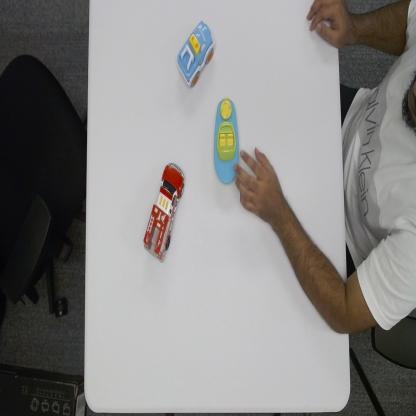Arm: (284, 201, 347, 337)
Boat: (212, 93, 240, 187)
Car: (176, 18, 216, 91)
Firetruck: (142, 160, 186, 264)
Hand: (233, 146, 283, 225), (305, 0, 343, 48)
